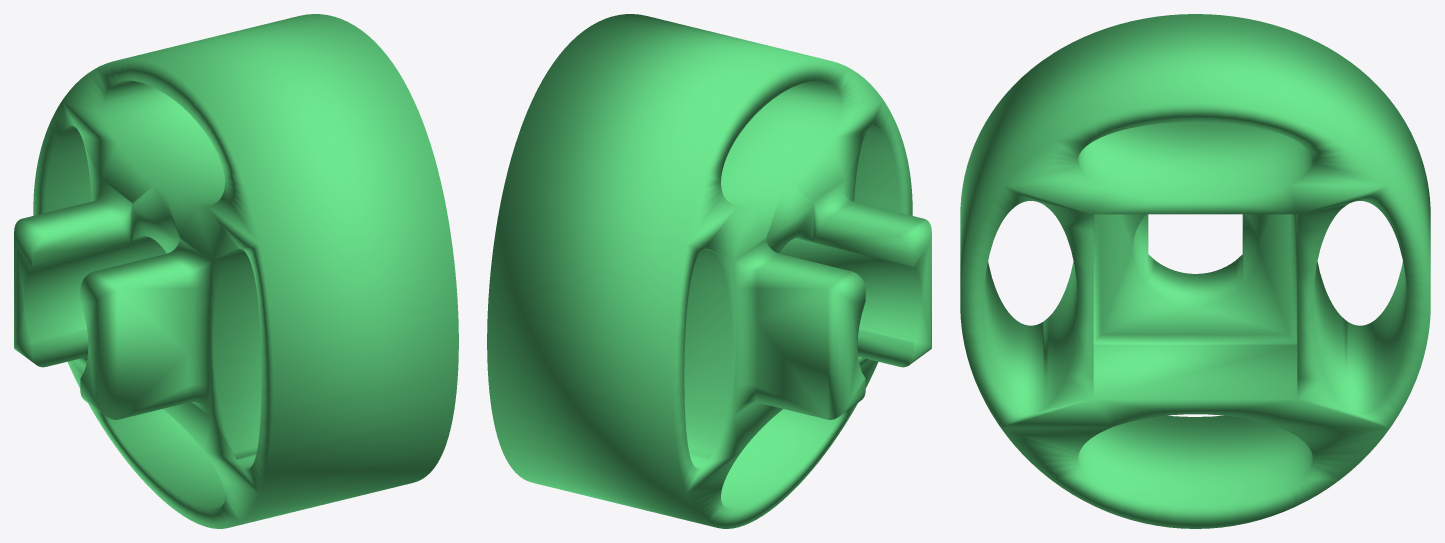
Rendered from continuum_segment_Blender_zero_lightgreen.dae.
The picture shows the model from 3 angles, left to right: view 1: azimuth 30°, elevation 25°; view 2: azimuth 150°, elevation 25°; view 3: azimuth 270°, elevation 25°; orthographic projection. The views are drawn at different scales.
Visible parts, largest first — view 1: continuum_segment; view 2: continuum_segment; view 3: continuum_segment.
Boxes of the visible parts, left/top/right/bottom form: continuum_segment: left=14, top=14, right=458, bottom=528; continuum_segment: left=487, top=14, right=931, bottom=528; continuum_segment: left=960, top=14, right=1430, bottom=528.
Bounding box in the file's own units: 2.2 × 3 × 3.
